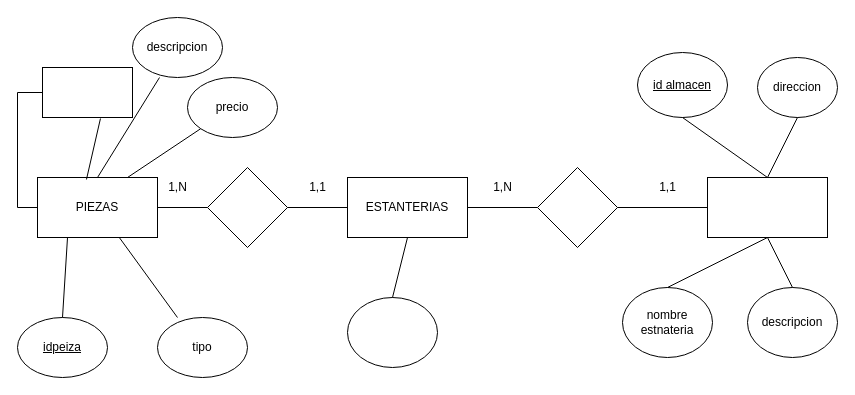
This 855x395 diagram has some shape labels left out. The shapes that lost their labels are listed below. From the top down, each one's box as (x1, y1, x2, y2) in pixels, then its label:
(42, 66, 132, 118): relacion
(206, 166, 288, 248): guardar
(536, 166, 618, 248): tener
(706, 176, 828, 238): ALMACENES
(346, 296, 438, 368): id estanteria
